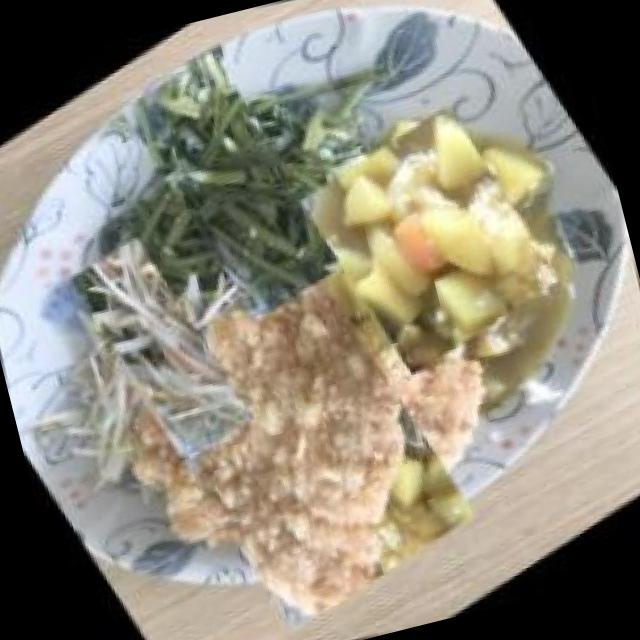curry: (276, 84, 586, 392)
fried_chicken: (90, 233, 514, 640)
mung_bean_sprouts: (43, 228, 283, 468)
water_spinach: (90, 41, 380, 332)
